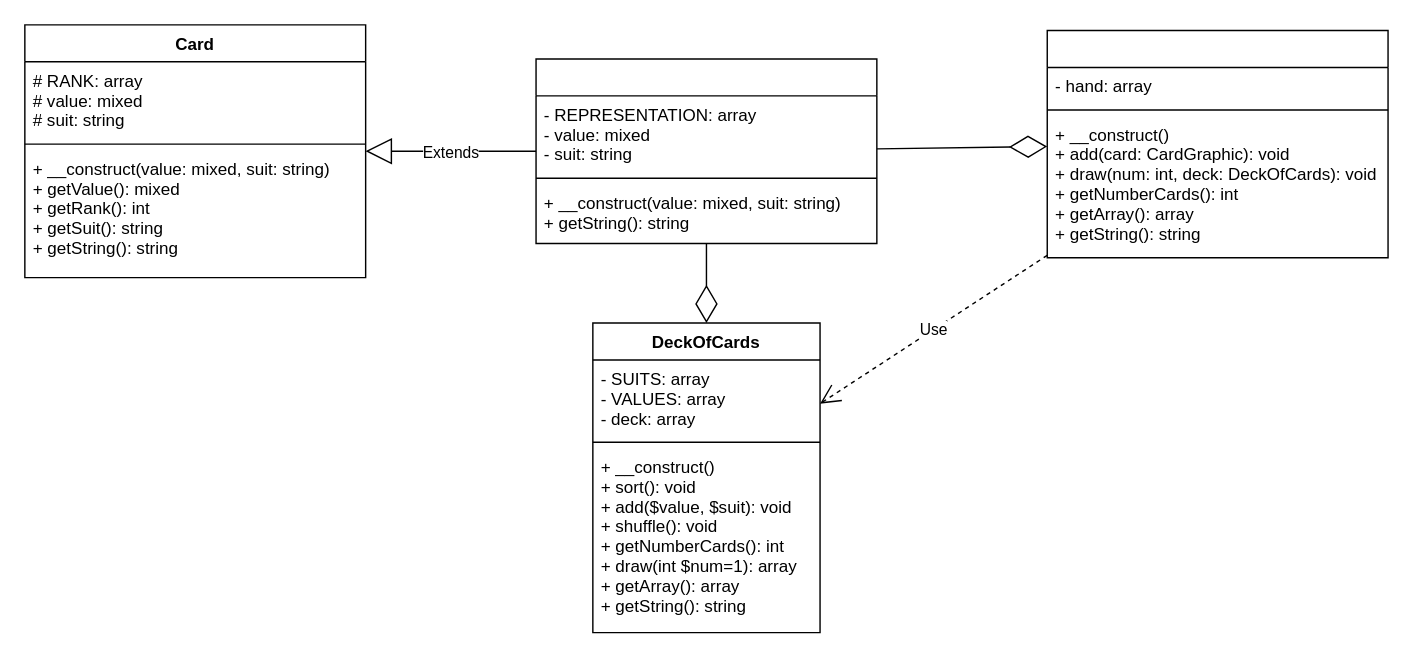
Image size: 1413x662. Some labels were removed from this diagram. The shapes that lost their labels are listed below. From the top down, each one's box as (x1, y1, x2, y2) in pixels, then its label:
(535, 58, 877, 244): CardGraphic
(1046, 29, 1388, 258): CardHand
